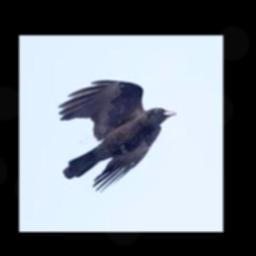Crow: (58, 78, 177, 191)
